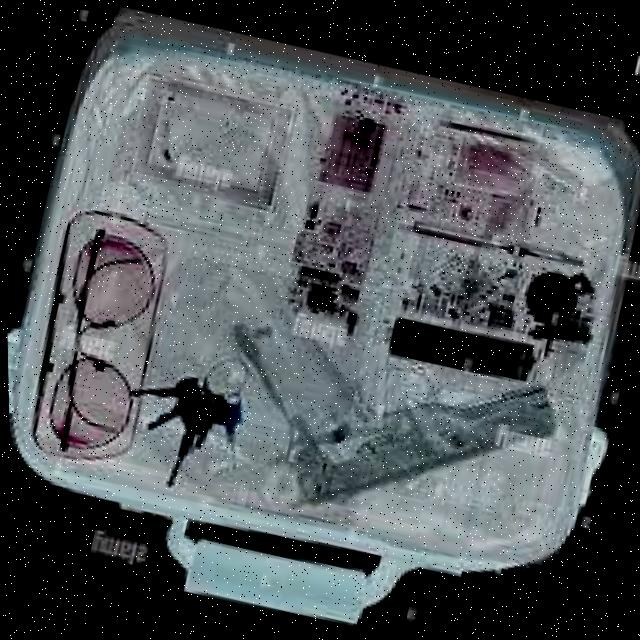pistol: (191, 299, 571, 569)
